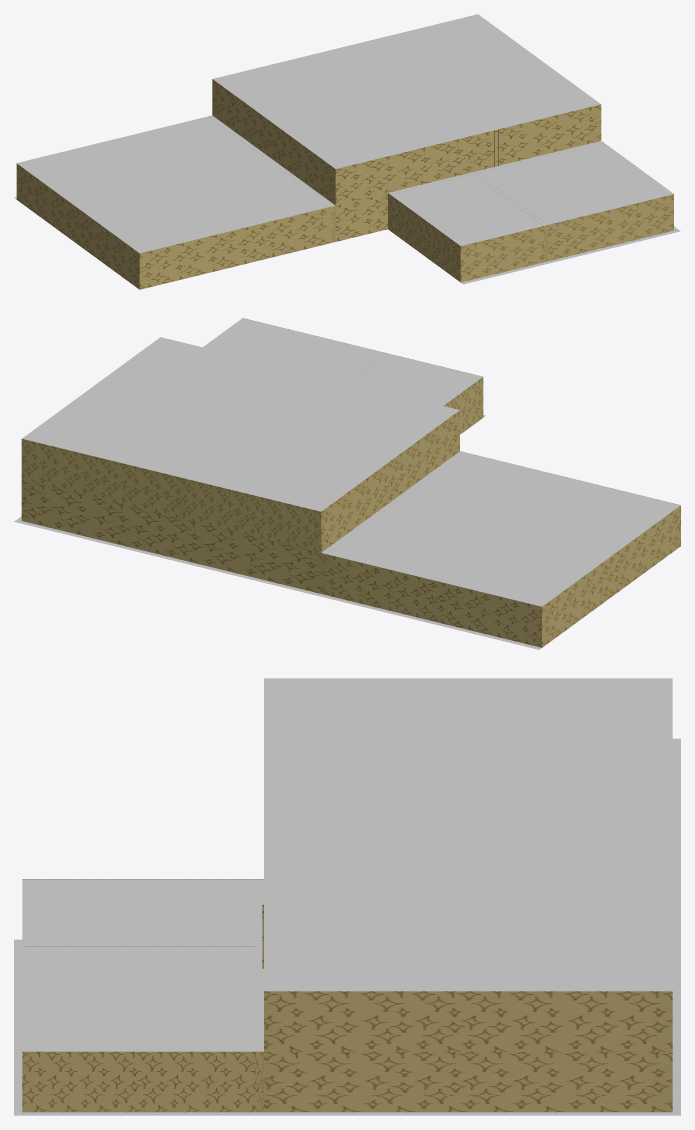
The model's file is ElderlyHomeFix.fbx.
3 views of the same model, one above another, from view 1: azimuth 30°, elevation 25°; view 2: azimuth 150°, elevation 25°; view 3: azimuth 270°, elevation 25° (orthographic). The views are drawn at different scales.
Parts seen in each view (by area): view 1: home; view 2: home; view 3: home.
Part boxes in pixels (bbox=[...]): home: bbox=[14, 14, 680, 289]; home: bbox=[14, 318, 680, 649]; home: bbox=[14, 678, 680, 1115].
Size of the model in its own units: 5350 by 800 by 4000.
